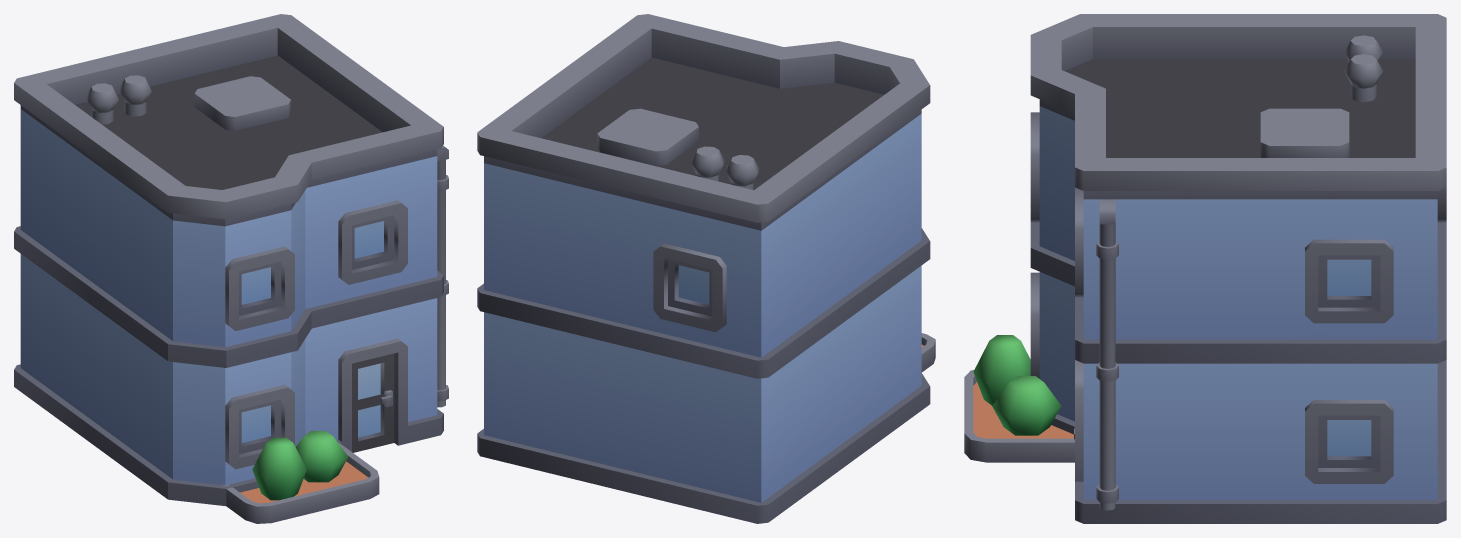
Rendered from building-c.glb.
3 views of the same model, side by side, from view 1: azimuth 30°, elevation 25°; view 2: azimuth 150°, elevation 25°; view 3: azimuth 270°, elevation 25° (orthographic). The views are drawn at different scales.
Visible parts, largest first — view 1: building-c; view 2: building-c; view 3: building-c.
Part boxes in pixels (<box>): building-c: <box>14,14,448,523</box>; building-c: <box>477,14,935,523</box>; building-c: <box>964,14,1446,523</box>.
Size of the model in its own units: 0.8836 by 0.893 by 1.09.
Materials: 1 (1 with a texture image).
